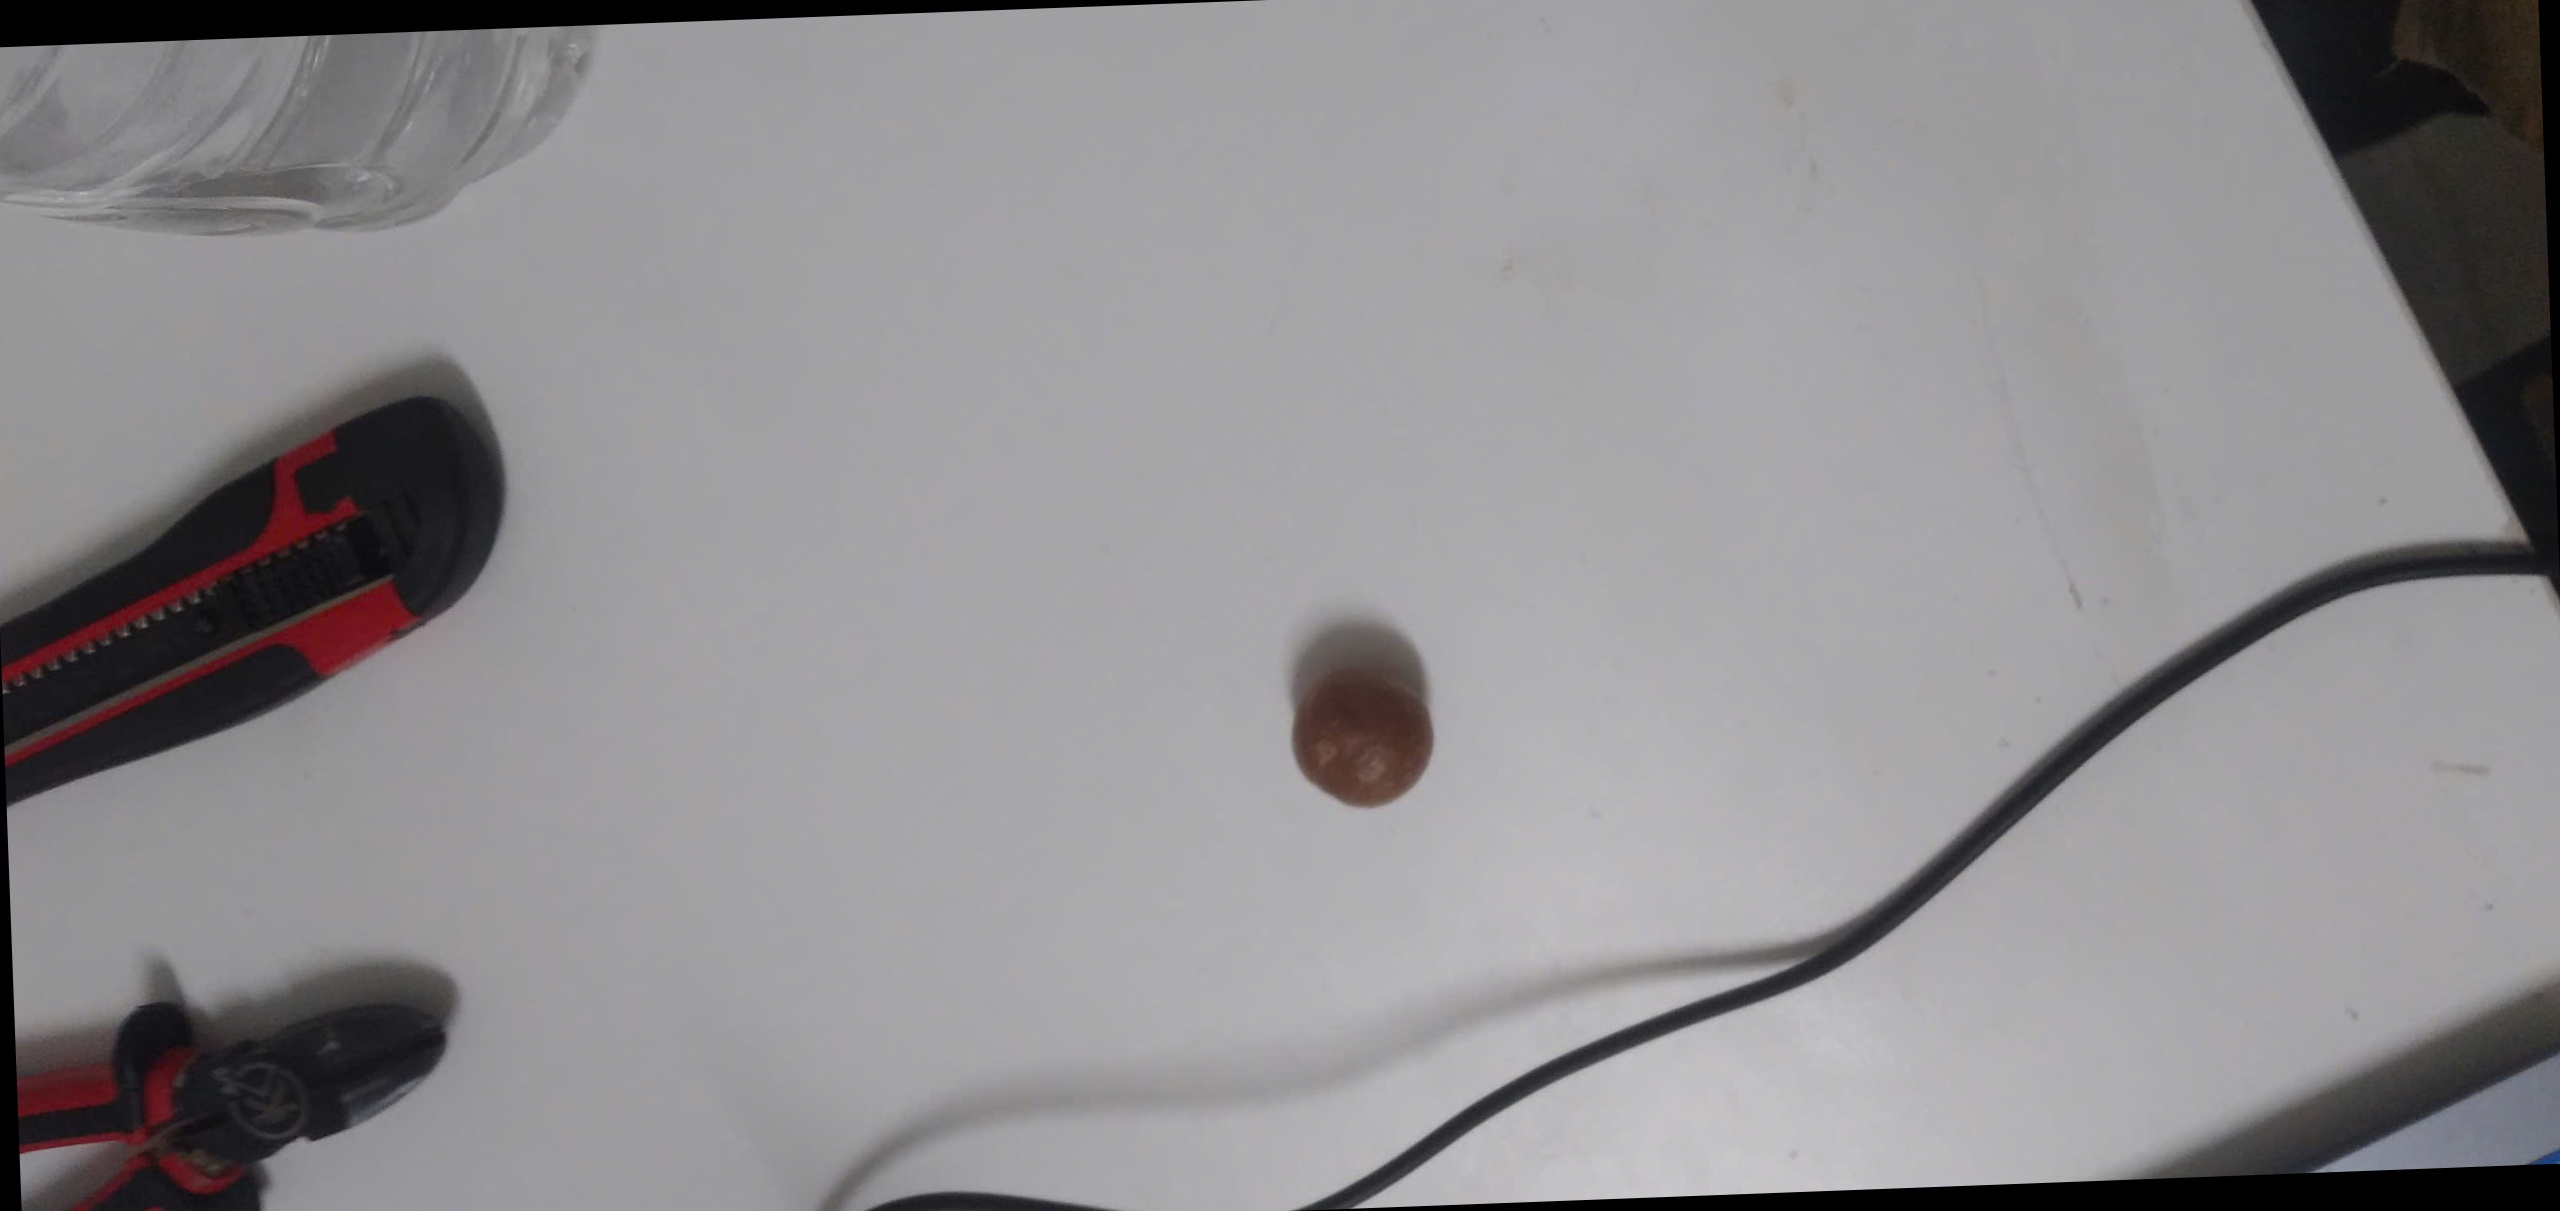mac: (1290, 664, 1437, 810)
